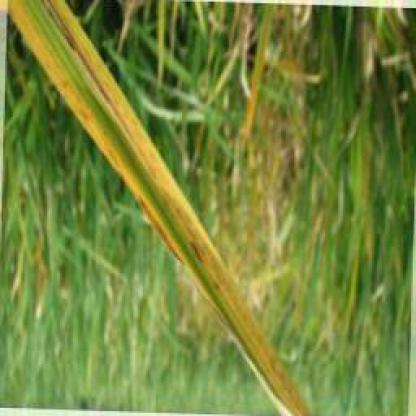Tungro: (11, 4, 305, 414)
